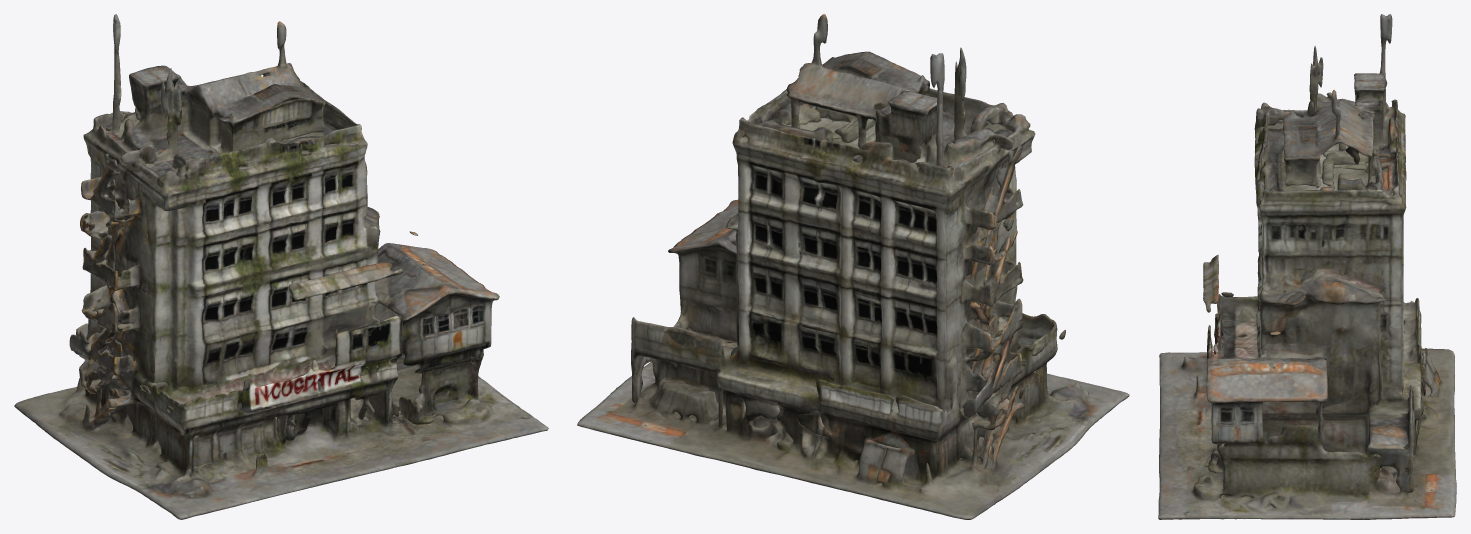
The model's file is hospital.glb.
The picture shows the model from 3 angles, left to right: view 1: azimuth 30°, elevation 25°; view 2: azimuth 150°, elevation 25°; view 3: azimuth 270°, elevation 25°; orthographic projection. The views are drawn at different scales.
Visible parts, largest first — view 1: Mesh_0; view 2: Mesh_0; view 3: Mesh_0.
Boxes of the visible parts, x1,y1,x2,y2 form: Mesh_0: (14,14,548,519); Mesh_0: (577,14,1129,519); Mesh_0: (1158,14,1456,519).
Size of the model in its own units: 2.99 by 3 by 2.2.
Materials: 1 (1 with a texture image).
